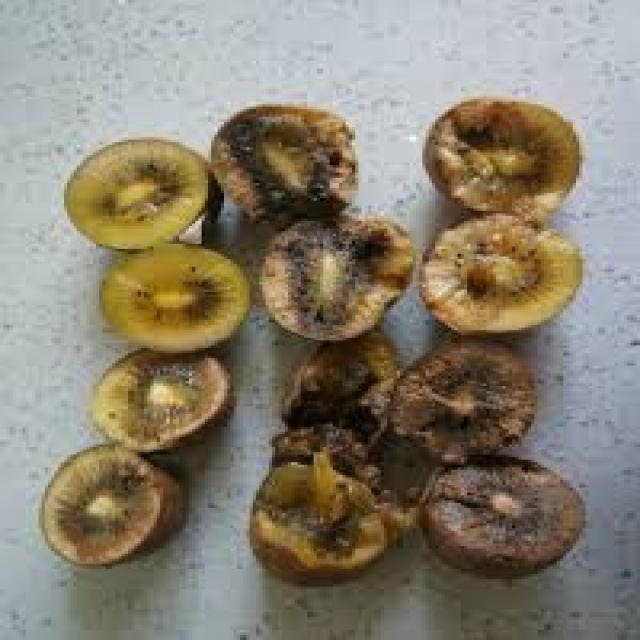organic waste: (253, 206, 416, 340), (406, 449, 580, 574), (243, 455, 410, 579), (419, 96, 586, 216), (419, 205, 579, 328), (61, 132, 221, 246), (202, 102, 358, 218), (384, 332, 531, 454), (36, 442, 182, 564), (93, 239, 250, 350), (86, 345, 228, 447), (275, 336, 394, 444), (259, 427, 381, 475)
